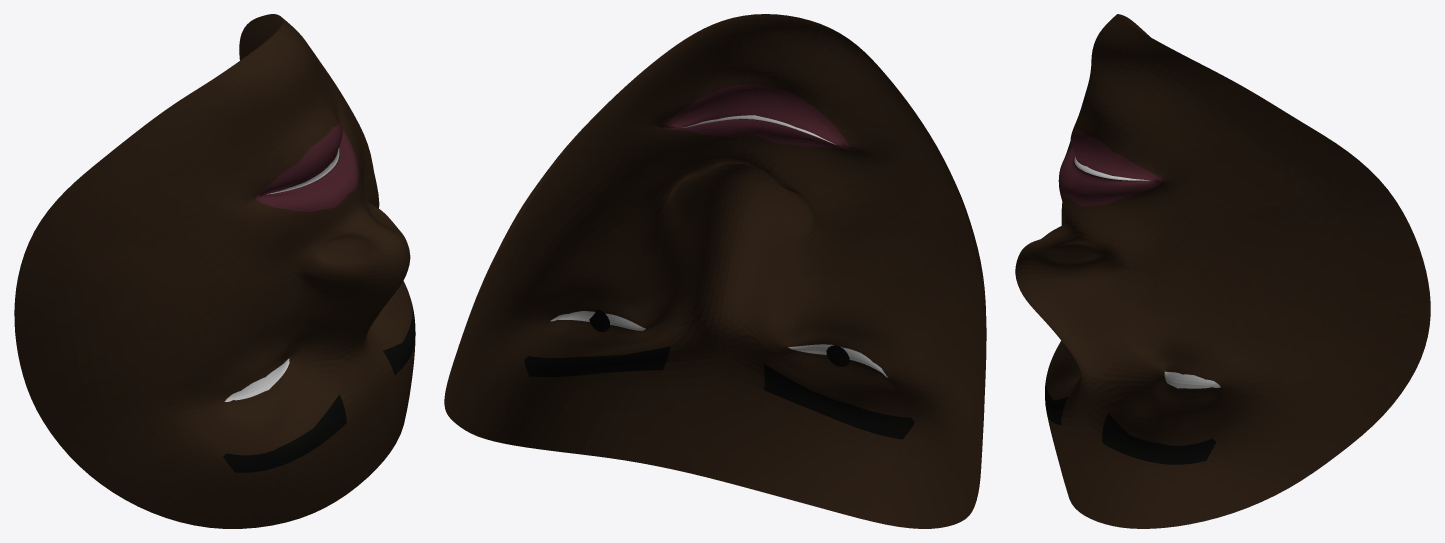
The model's file is frame_00152.obj.
The picture shows the model from 3 angles, left to right: view 1: azimuth 30°, elevation 25°; view 2: azimuth 150°, elevation 25°; view 3: azimuth 270°, elevation 25°; orthographic projection. The views are drawn at different scales.
Parts seen in each view (by area): view 1: face_mesh_subdivided; view 2: face_mesh_subdivided; view 3: face_mesh_subdivided.
Boxes of the visible parts, box(x1,y1,x2,y2) form: face_mesh_subdivided: box(14, 14, 415, 528); face_mesh_subdivided: box(444, 14, 986, 528); face_mesh_subdivided: box(1015, 14, 1430, 528).
Size of the model in its own units: 0.5011 by 0.5404 by 0.437.
